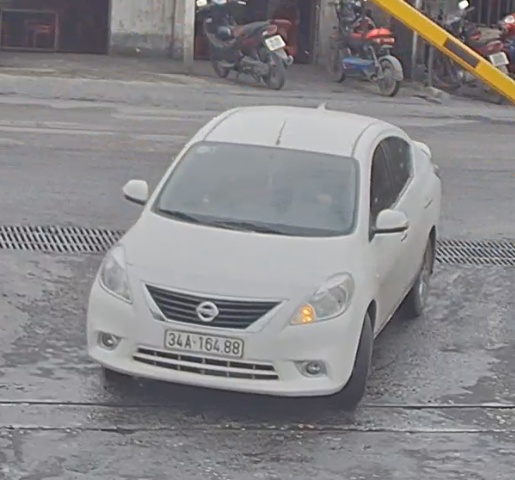vehicle plate: (161, 319, 246, 356)
